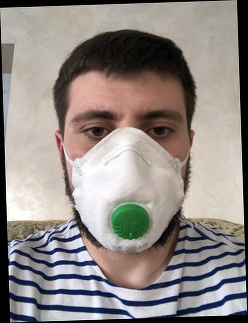with_mask: (67, 91, 189, 254)
